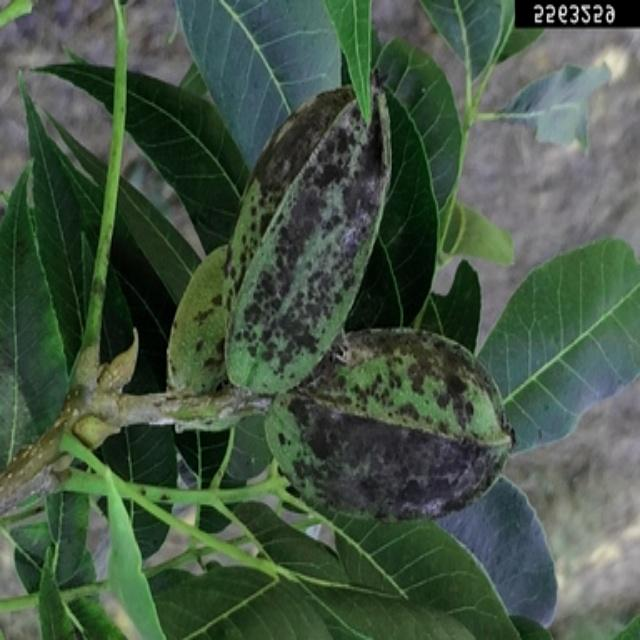leaf_spot: (298, 293, 542, 565), (247, 61, 371, 417)
